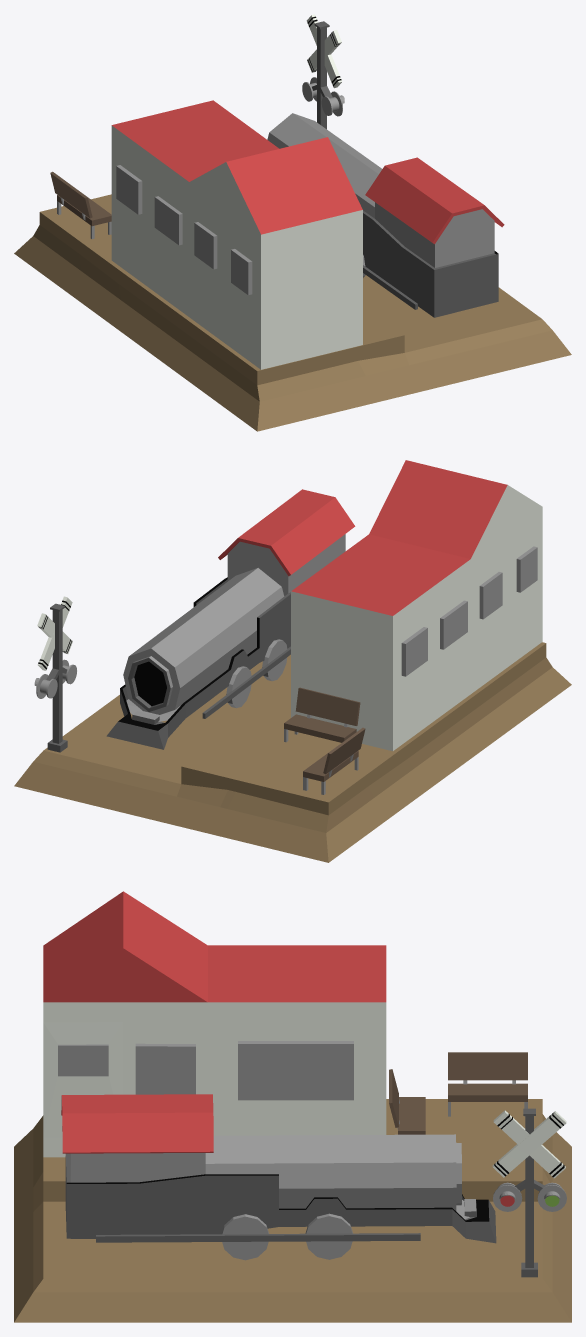
Rendered from train_station_var1_withCrossSigns_model.fbx.
The picture shows the model from 3 angles, top to bottom: view 1: azimuth 30°, elevation 25°; view 2: azimuth 150°, elevation 25°; view 3: azimuth 270°, elevation 25°; orthographic projection. The views are drawn at different scales.
Parts seen in each view (by area): view 1: polySurface33; view 2: polySurface33; view 3: polySurface33.
Boxes of the visible parts, box(x1,y1,x2,y2) form: polySurface33: box(14, 14, 571, 431); polySurface33: box(14, 460, 571, 862); polySurface33: box(14, 891, 571, 1322).
Size of the model in its own units: 10.31 by 7.23 by 13.81.
